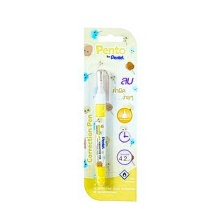book: (81, 24, 139, 203)
correction_fluid: (90, 66, 110, 188)
